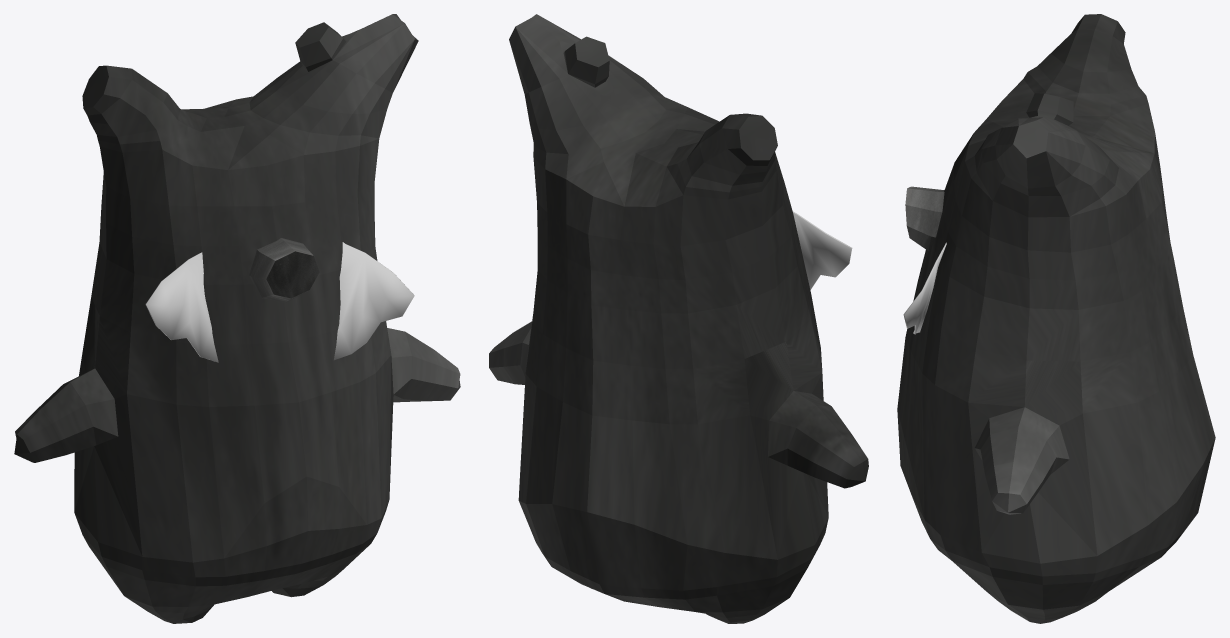
File: frame_0140.obj
3 views of the same model, side by side, from view 1: azimuth 30°, elevation 25°; view 2: azimuth 150°, elevation 25°; view 3: azimuth 270°, elevation 25° (orthographic). The views are drawn at different scales.
Parts seen in each view (by area): view 1: korok, leaf, nose; view 2: korok, leaf; view 3: korok, nose, leaf.
Boxes of the visible parts, left/top/right/bottom form: korok: left=14, top=14, right=460, bottom=623; leaf: left=145, top=242, right=414, bottom=362; nose: left=249, top=238, right=319, bottom=302; korok: left=489, top=14, right=868, bottom=623; leaf: left=792, top=211, right=852, bottom=289; korok: left=897, top=14, right=1215, bottom=623; nose: left=905, top=186, right=944, bottom=251; leaf: left=903, top=242, right=946, bottom=334.
Bounding box in the file's own units: 1.7 × 2.2 × 1.16.
